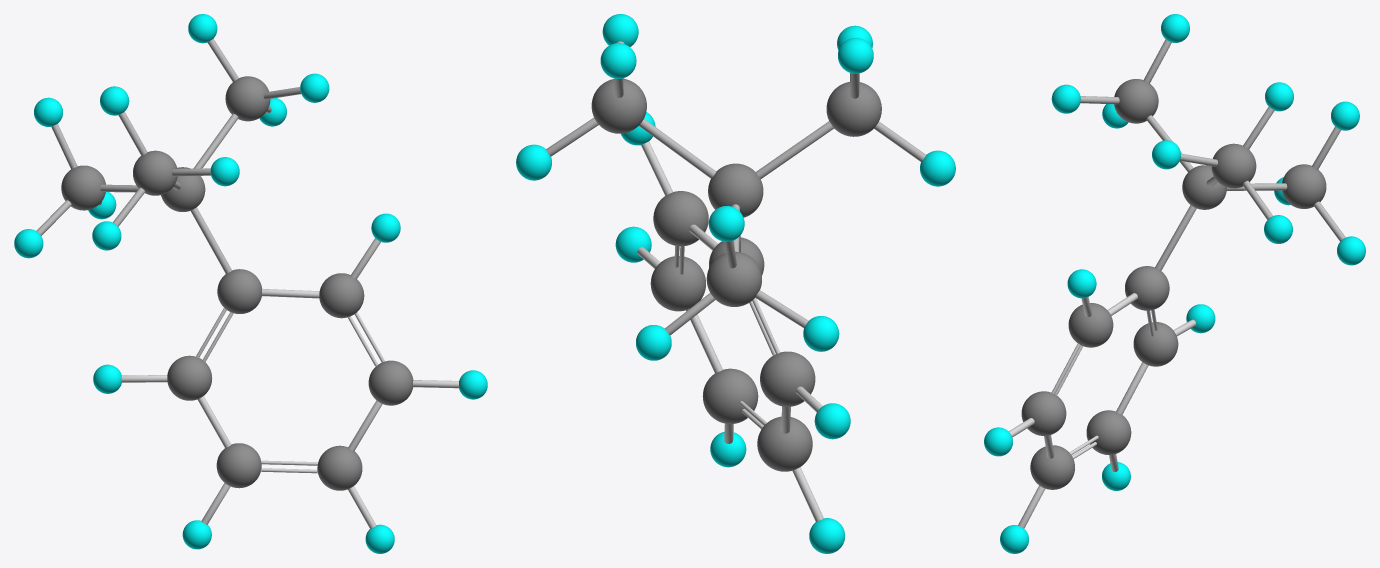
Rendered from tert-butylbenzene.glb.
3 renders of one model, left to right at view 1: azimuth 30°, elevation 25°; view 2: azimuth 150°, elevation 25°; view 3: azimuth 270°, elevation 25°, orthographic. The views are drawn at different scales.
Visible parts, largest first — view 1: CMAtom_5, CMAtom_1, CMAtom_4, CMAtom_0, CMAtom_3, CMAtom_2, CMAtom_13, CMAtom_12, CMAtom_14, CMAtom_11, CMAtom_7, CMAtom_22 (+11 smaller); view 2: CMAtom_3, CMAtom_5, CMAtom_4, CMAtom_1, CMAtom_0, CMAtom_14, CMAtom_13, CMAtom_12, CMAtom_11, CMAtom_15, CMAtom_9, CMAtom_20 (+19 smaller); view 3: CMAtom_13, CMAtom_0, CMAtom_12, CMAtom_14, CMAtom_4, CMAtom_5, CMAtom_2, CMAtom_1, CMAtom_3, CMAtom_11, CMAtom_10, CMAtom_17 (+11 smaller).
Boxes of the visible parts, <box> form: CMAtom_5: <box>368,360,413,405</box>; CMAtom_1: <box>319,273,364,318</box>; CMAtom_4: <box>167,355,212,400</box>; CMAtom_0: <box>216,443,261,488</box>; CMAtom_3: <box>317,445,362,490</box>; CMAtom_2: <box>217,269,262,313</box>; CMAtom_13: <box>61,165,105,210</box>; CMAtom_12: <box>225,76,270,121</box>; CMAtom_14: <box>133,150,177,195</box>; CMAtom_11: <box>161,167,205,211</box>; CMAtom_7: <box>371,213,400,242</box>; CMAtom_22: <box>210,157,239,186</box>; CMAtom_3: <box>702,368,758,423</box>; CMAtom_5: <box>650,256,705,311</box>; CMAtom_4: <box>760,351,815,406</box>; CMAtom_1: <box>653,191,708,246</box>; CMAtom_0: <box>757,416,812,471</box>; CMAtom_14: <box>826,81,881,136</box>; CMAtom_13: <box>706,251,761,306</box>; CMAtom_12: <box>591,78,646,133</box>; CMAtom_11: <box>708,163,763,217</box>; CMAtom_15: <box>600,43,636,78</box>; CMAtom_9: <box>814,403,850,439</box>; CMAtom_20: <box>708,206,744,241</box>; CMAtom_13: <box>1282,164,1326,208</box>; CMAtom_0: <box>1086,410,1131,454</box>; CMAtom_12: <box>1211,143,1256,188</box>; CMAtom_14: <box>1114,79,1158,123</box>; CMAtom_4: <box>1133,322,1178,366</box>; CMAtom_5: <box>1021,391,1066,435</box>; CMAtom_2: <box>1125,266,1169,310</box>; CMAtom_1: <box>1068,303,1113,347</box>; CMAtom_3: <box>1030,445,1074,489</box>; CMAtom_11: <box>1182,165,1226,209</box>; CMAtom_10: <box>984,427,1012,456</box>; CMAtom_17: <box>1152,140,1180,169</box>.
Bounding box in the file's own units: 5.25 × 6.81 × 5.26.
